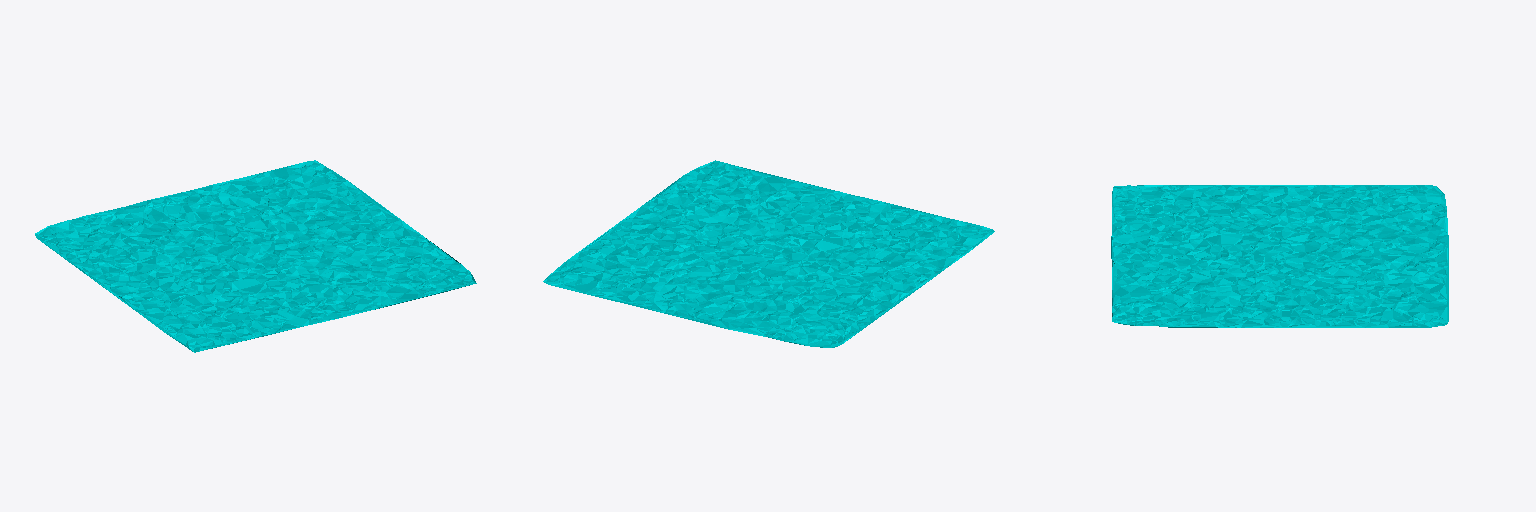
The model's file is water.obj.
3 views of the same model, side by side, from view 1: azimuth 30°, elevation 25°; view 2: azimuth 150°, elevation 25°; view 3: azimuth 270°, elevation 25° (orthographic).
Bounding box in the file's own units: 300 × 2.76 × 299.